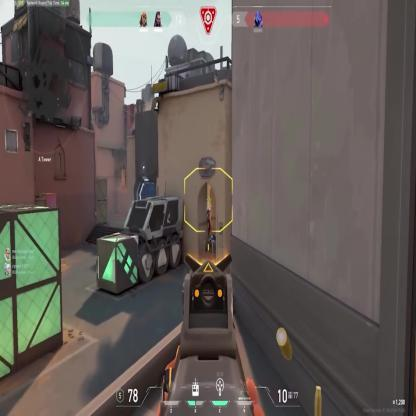enemy: (203, 204, 212, 238)
enemy_head: (208, 207, 210, 215)
